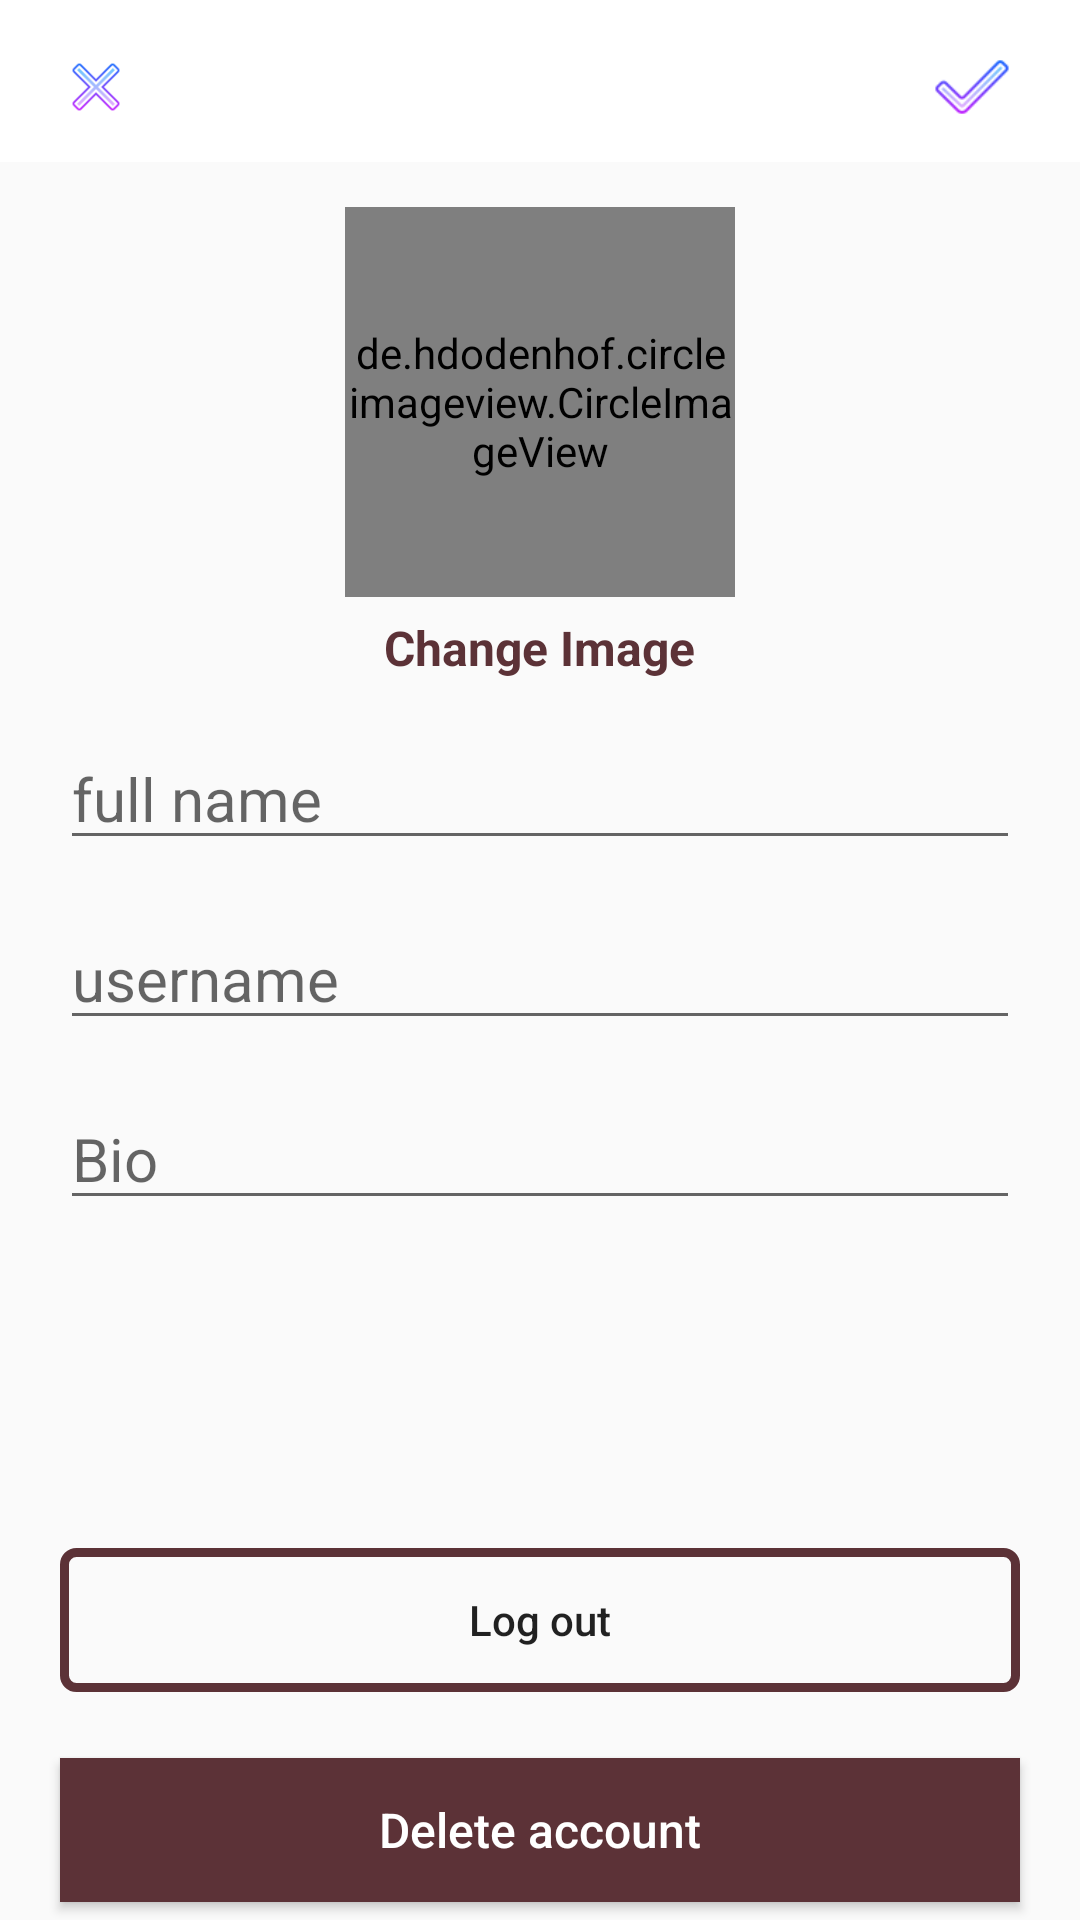

Icons on this 1080px×1920px Android screen, each with the point to tap as point (x, y):
close: point (96, 87)
save edited info: point (972, 87)
